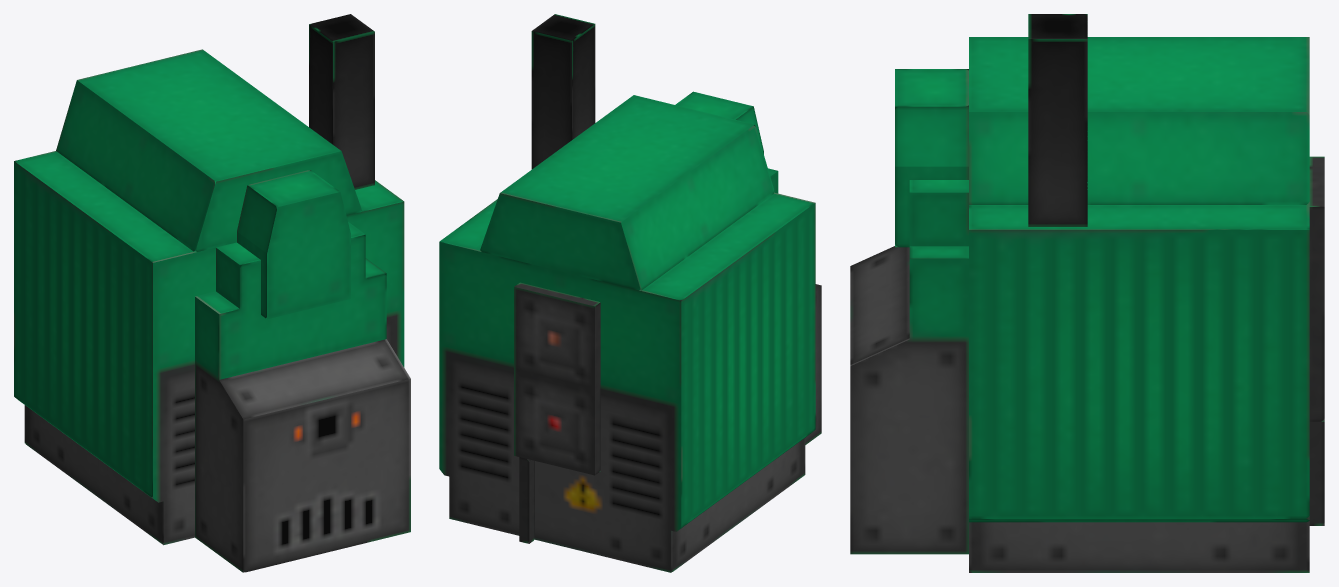
Rendered from efcoal.obj.
3 views of the same model, side by side, from view 1: azimuth 30°, elevation 25°; view 2: azimuth 150°, elevation 25°; view 3: azimuth 270°, elevation 25° (orthographic). The views are drawn at different scales.
Visible parts, largest first — view 1: coalgenerator; view 2: coalgenerator; view 3: coalgenerator.
Part boxes in pixels (<box>): coalgenerator: <box>14,14,410,572</box>; coalgenerator: <box>439,14,821,572</box>; coalgenerator: <box>850,14,1324,572</box>.
Size of the model in its own units: 3 by 5 by 4.
